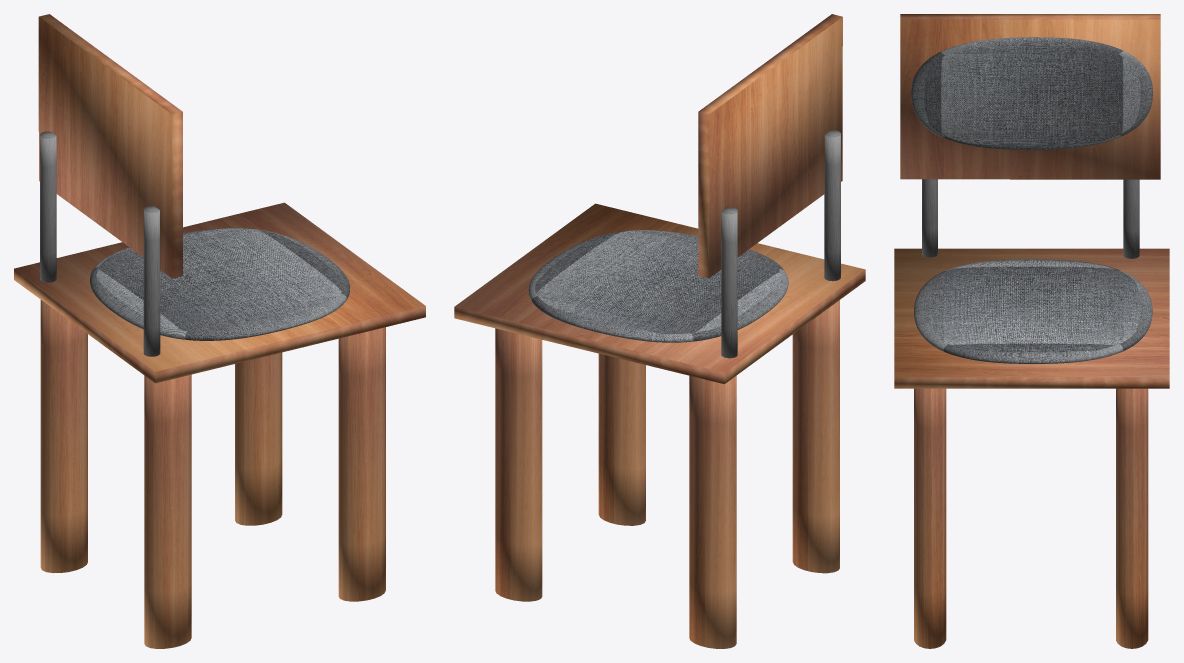
Rendered from Desktop Chair.obj.
3 renders of one model, left to right at view 1: azimuth 30°, elevation 25°; view 2: azimuth 150°, elevation 25°; view 3: azimuth 270°, elevation 25°, orthographic. The views are drawn at different scales.
Visible parts, largest first — view 1: DesktopChairBack, BackCosin, DesktopChairBase, DesktopChairLeg1, DesktopChairLeg2, DesktopChairLeg3, DesktopChairLeg4, DesktopChairBackTube2, DesktopChairBackTube1; view 2: DesktopChairBack, BackCosin, DesktopChairBase, DesktopChairLeg3, DesktopChairLeg4, DesktopChairLeg1, DesktopChairLeg2, DesktopChairBackTube1, DesktopChairBackTube2; view 3: BaseCosin, BackCosin, DesktopChairBack, DesktopChairBase, DesktopChairLeg2, DesktopChairLeg4, DesktopChairBackTube1, DesktopChairBackTube2.
Boxes of the visible parts, left/top/right/bottom form: DesktopChairBack: left=38, top=14, right=182, bottom=278; BackCosin: left=90, top=228, right=349, bottom=340; DesktopChairBase: left=14, top=202, right=425, bottom=383; DesktopChairLeg1: left=144, top=374, right=191, bottom=648; DesktopChairLeg2: left=338, top=327, right=385, bottom=601; DesktopChairLeg3: left=40, top=300, right=87, bottom=573; DesktopChairLeg4: left=235, top=352, right=282, bottom=525; DesktopChairBackTube2: left=143, top=205, right=160, bottom=356; DesktopChairBackTube1: left=40, top=131, right=56, bottom=282; DesktopChairBack: left=698, top=14, right=842, bottom=278; BackCosin: left=528, top=230, right=788, bottom=342; DesktopChairBase: left=454, top=203, right=865, bottom=384; DesktopChairLeg3: left=689, top=375, right=736, bottom=648; DesktopChairLeg4: left=495, top=328, right=542, bottom=601; DesktopChairLeg1: left=792, top=300, right=839, bottom=573; DesktopChairLeg2: left=598, top=353, right=645, bottom=525; DesktopChairBackTube1: left=721, top=207, right=737, bottom=358; DesktopChairBackTube2: left=824, top=130, right=840, bottom=281; BaseCosin: left=911, top=37, right=1152, bottom=149; BackCosin: left=914, top=259, right=1152, bottom=363; DesktopChairBack: left=900, top=14, right=1160, bottom=179; DesktopChairBase: left=894, top=248, right=1169, bottom=388; DesktopChairLeg2: left=914, top=388, right=946, bottom=648; DesktopChairLeg4: left=1116, top=388, right=1148, bottom=648; DesktopChairBackTube1: left=1123, top=179, right=1139, bottom=258; DesktopChairBackTube2: left=922, top=179, right=937, bottom=257.
Bounding box in the file's own units: 2.09 × 3.98 × 1.89.
